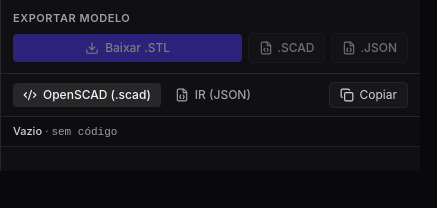
Test: Marco 5 (F8): Shell v1, Undo/Redo, Histórico, Abas Mobile e Cobertura › InspectorPanel ignora cópia vazia, copia aba IR e ignora tecla não mapeada
Later steps or results of the test are not shown.
Click the button with test id "copy-code" at (368, 94), box [328,82,408,108]
Press Escape in the tab with test id "tab-scad", box [13,82,161,106]
Click the tab with test id "tab-ir" at (213, 94), box [165,82,261,106]
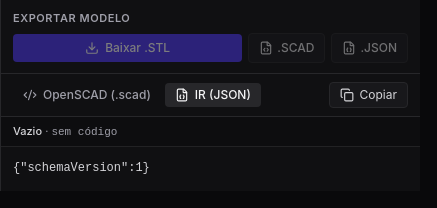
expect the tab with test id "tab-ir" is selected: met, box [165,82,261,106]
